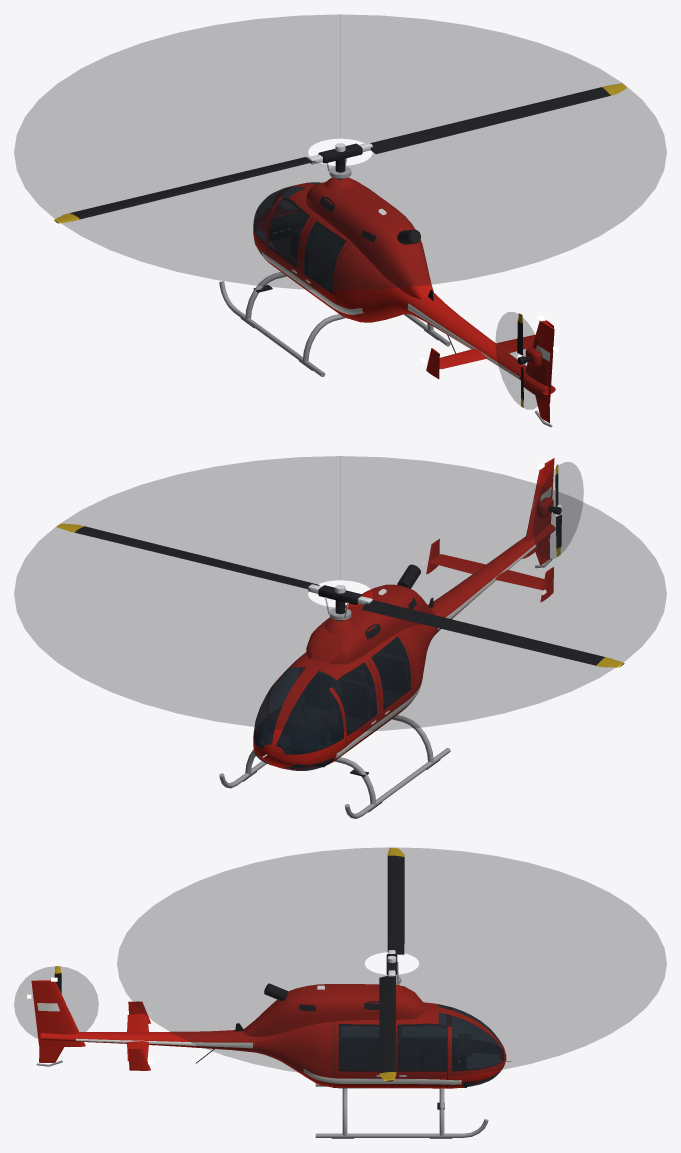
The model's file is heli_body.glb.
3 renders of one model, top to bottom at view 1: azimuth 30°, elevation 25°; view 2: azimuth 150°, elevation 25°; view 3: azimuth 270°, elevation 25°, orthographic. The views are drawn at different scales.
Parts seen in each view (by area): view 1: RotorDisc, HeliBody, TailBoom, MainRotor, CabinFront, TailDisc, Skids, Stripes; view 2: RotorDisc, CabinFront, HeliBody, MainRotor, TailBoom, TailDisc, Skids, Stripes; view 3: RotorDisc, HeliBody, CabinFront, TailBoom, MainRotor, TailDisc, Stripes, Skids.
Part boxes in pixels (x1,y1,x2,y2): RotorDisc: [14, 14, 666, 289]; HeliBody: [300, 158, 430, 322]; TailBoom: [406, 279, 558, 427]; MainRotor: [54, 83, 626, 223]; CabinFront: [253, 182, 344, 290]; TailDisc: [495, 312, 545, 409]; Skids: [219, 272, 450, 376]; Stripes: [261, 251, 550, 379]; RotorDisc: [14, 456, 666, 731]; CabinFront: [253, 642, 379, 770]; HeliBody: [302, 564, 436, 733]; MainRotor: [56, 523, 624, 667]; TailBoom: [421, 458, 555, 635]; TailDisc: [534, 462, 583, 559]; Skids: [219, 715, 450, 818]; Stripes: [335, 487, 551, 758]; RotorDisc: [117, 847, 666, 1079]; HeliBody: [255, 975, 425, 1088]; CabinFront: [333, 1002, 511, 1088]; TailBoom: [27, 977, 255, 1070]; MainRotor: [379, 848, 404, 1081]; TailDisc: [14, 966, 98, 1038]; Stripes: [37, 1003, 461, 1084]; Skids: [315, 1083, 488, 1138].
Size of the model in its own units: 10.1 by 3.13 by 11.99.
